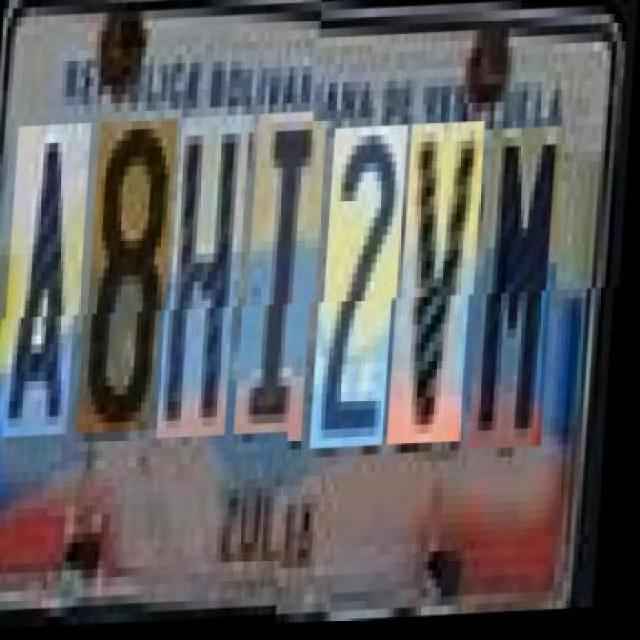2: (321, 130, 410, 452)
8: (86, 129, 179, 443)
a: (3, 133, 92, 447)
h: (167, 126, 251, 449)
i: (244, 123, 328, 446)
m: (479, 132, 568, 456)
v: (398, 126, 487, 449)
